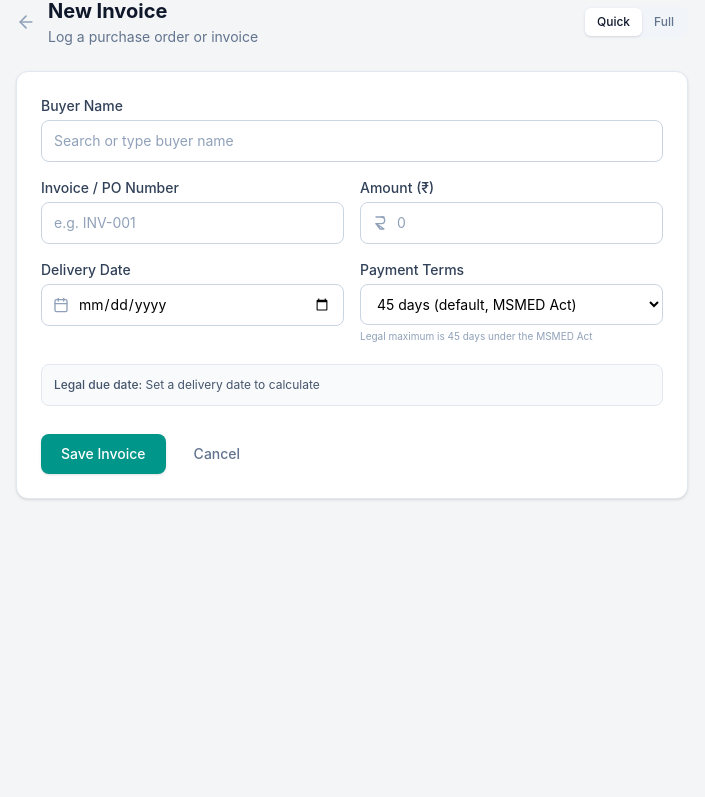
Test: AddInvoice - Full Mode › shows declaration section with warning banner in Full Mode
Click the button "Full" at (664, 22), box [642, 8, 686, 36]
(page scrolled)
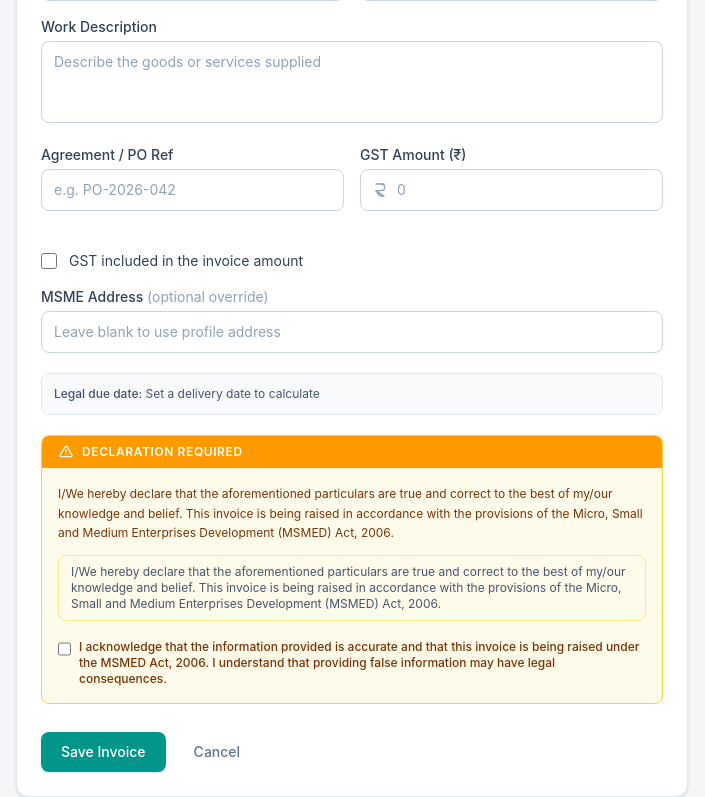
Expected: the text "Declaration Required" is shown, [82, 444, 243, 460]
Expected: the text "I acknowledge that the information provided is accurate" is shown, [79, 638, 640, 686]
